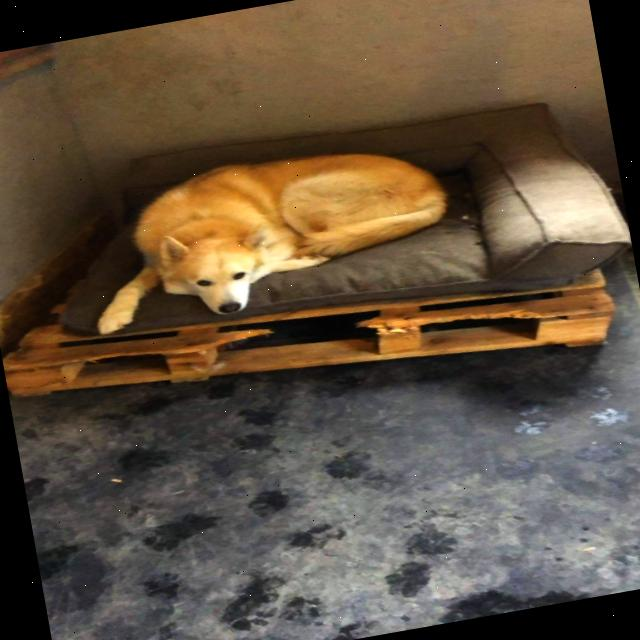siberian_husky_dog: (145, 213, 292, 330)
